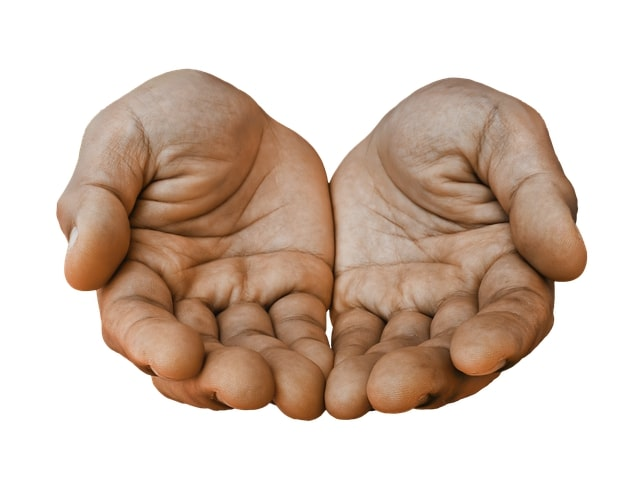palmhand: (71, 69, 325, 414), (330, 66, 572, 411)
